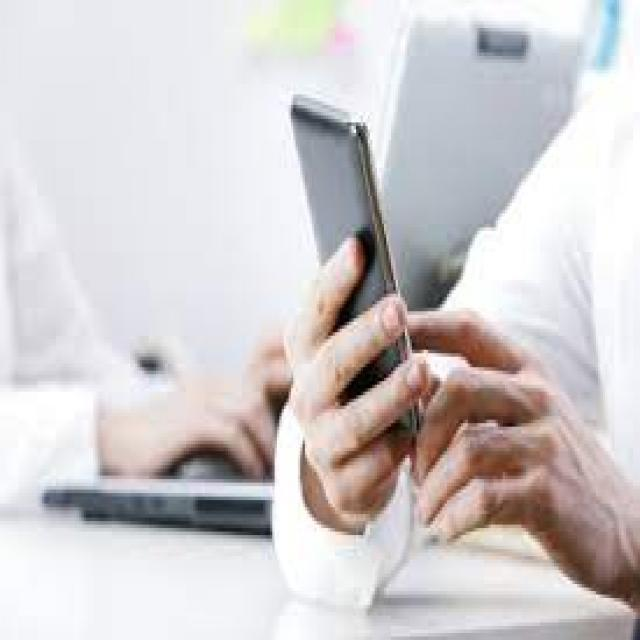Phone: (288, 88, 424, 436)
